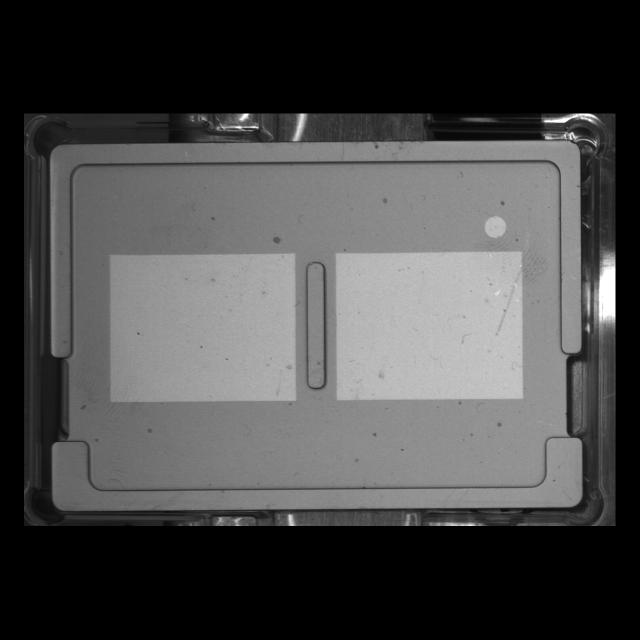door: (42, 427, 596, 518)
point: (477, 207, 514, 245)
